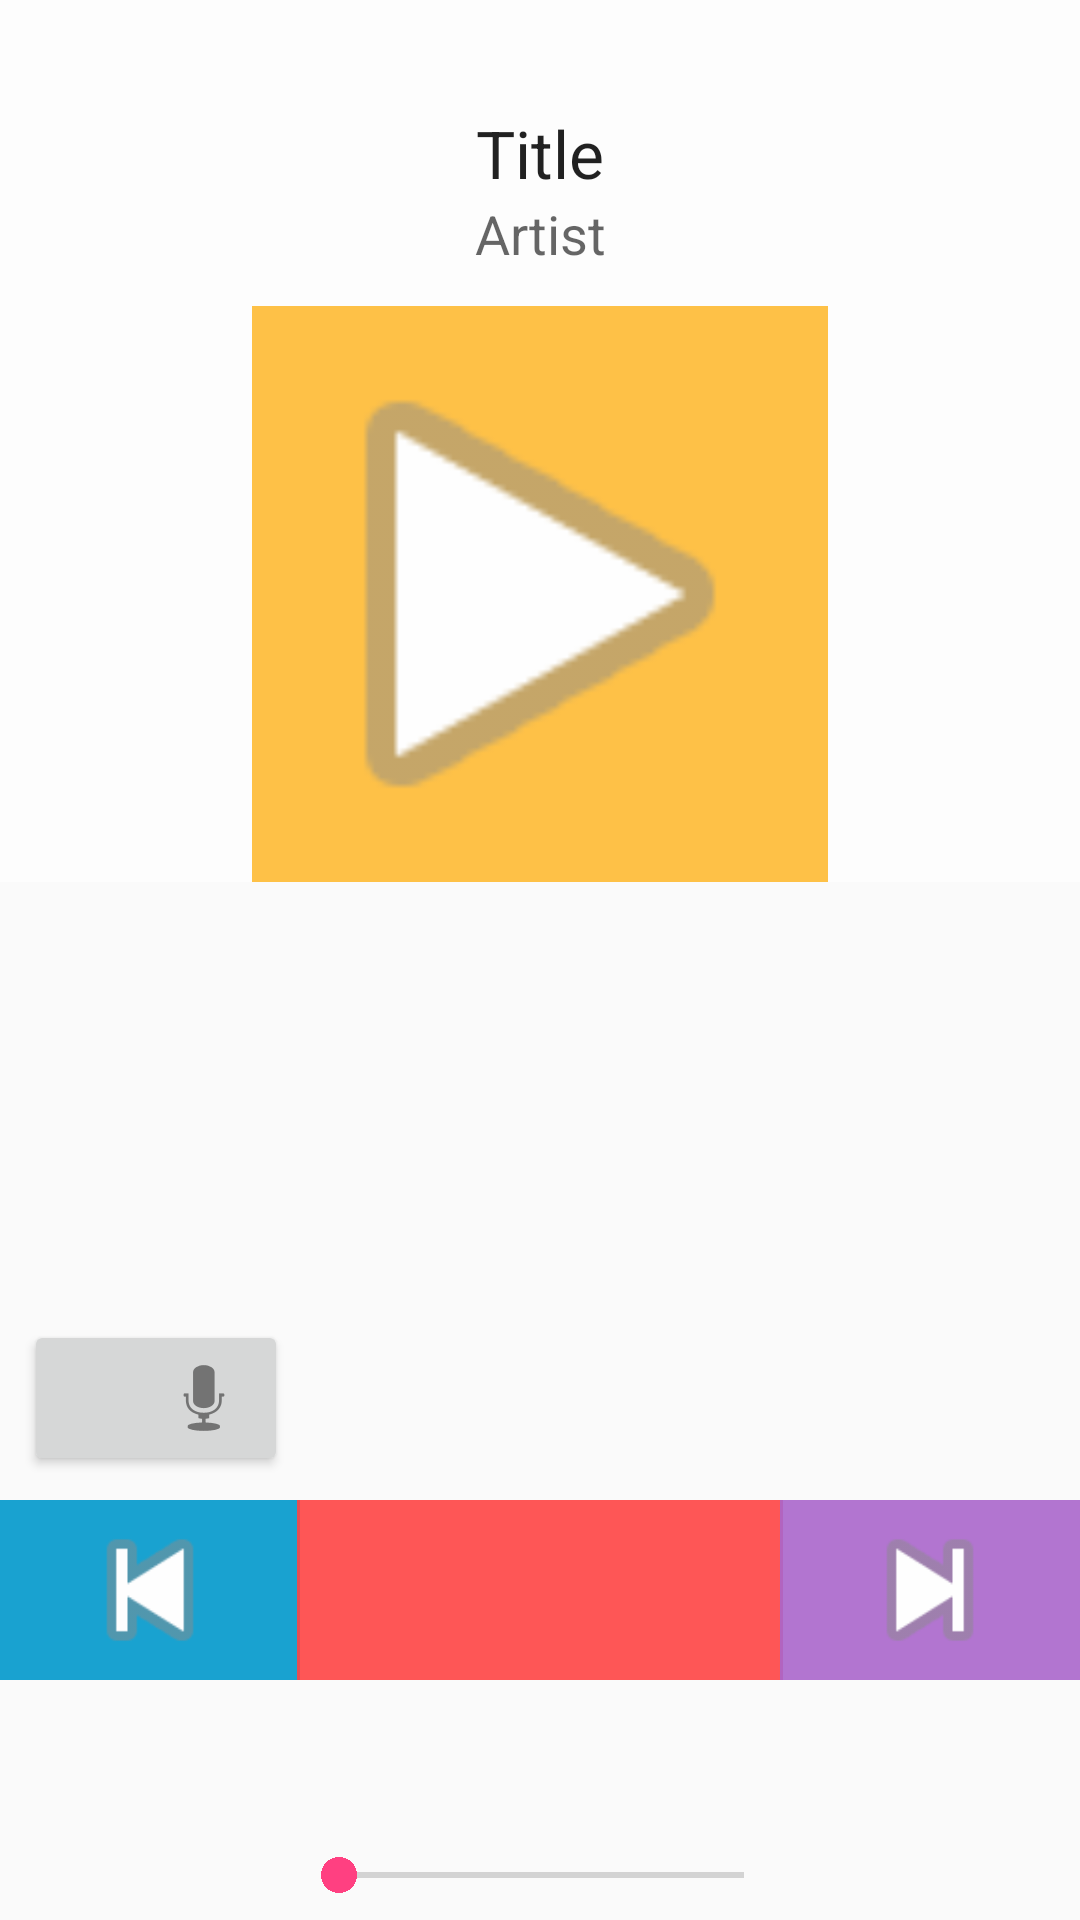

Screen size 1080×1920. Icon name, then its center in pixels as (x,y):
next: (930,1590)
previous: (150,1590)
